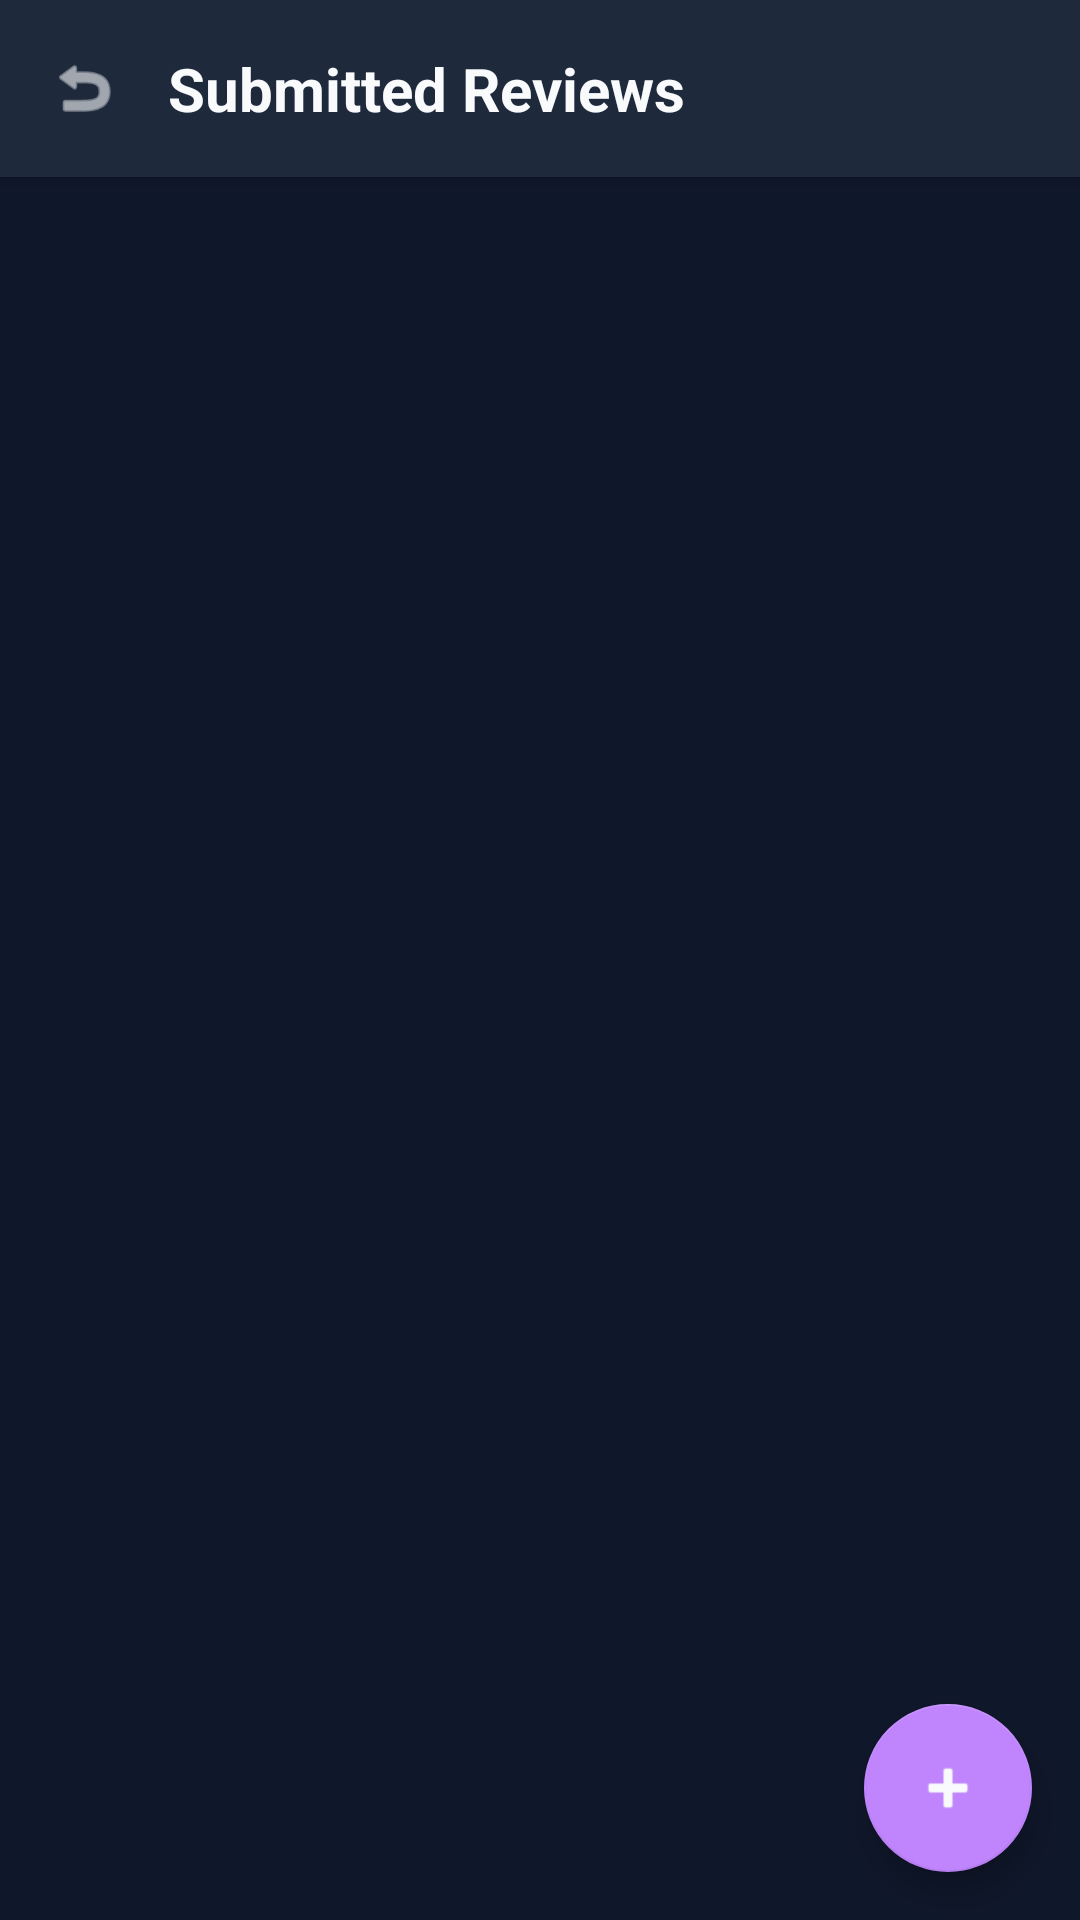

Named icons in this screenshot (1080px×1920px) and their centers, [x,y]:
add: [948,1788]
revert: [85,88]
